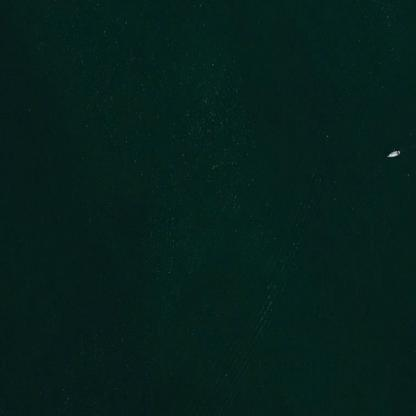ship: (367, 148, 382, 158)
